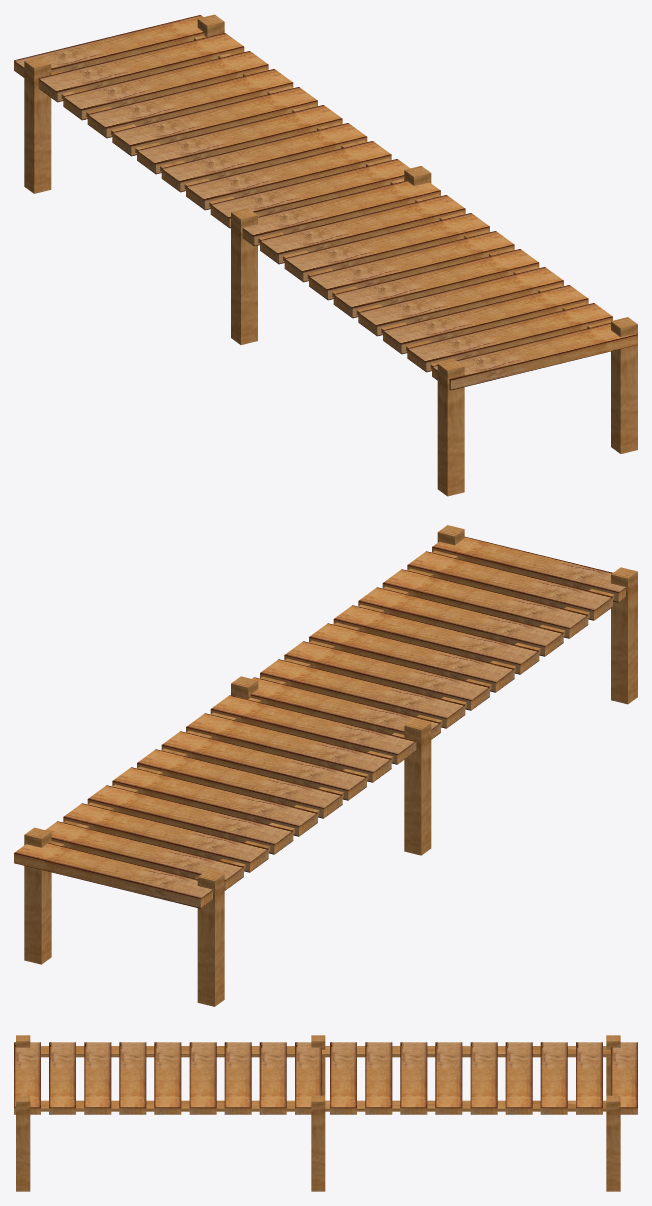
Rendered from WoodDock.glb.
The picture shows the model from 3 angles, top to bottom: view 1: azimuth 30°, elevation 25°; view 2: azimuth 150°, elevation 25°; view 3: azimuth 270°, elevation 25°; orthographic projection. The views are drawn at different scales.
Parts seen in each view (by area): view 1: Cube, Cube.001, Cube.002, Cube.004, Cube.003; view 2: Cube, Cube.001, Cube.002, Cube.003, Cube.004; view 3: Cube, Cube.002, Cube.003, Cube.004, Cube.001.
Boxes of the visible parts, box(x1,y1,x2,y2) form: Cube: box(14, 15, 637, 390); Cube.001: box(24, 56, 464, 496); Cube.002: box(197, 14, 637, 453); Cube.004: box(194, 35, 610, 328); Cube.003: box(51, 70, 454, 369); Cube: box(14, 536, 625, 908); Cube.001: box(197, 567, 637, 1006); Cube.002: box(24, 525, 464, 964); Cube.003: box(195, 589, 614, 879); Cube.004: box(51, 550, 457, 846); Cube: box(14, 1042, 637, 1114); Cube.002: box(16, 1095, 620, 1191); Cube.003: box(41, 1046, 610, 1057); Cube.004: box(41, 1100, 606, 1111); Cube.001: box(16, 1035, 620, 1095).
Size of the model in its own units: 5.63 by 3.55 by 22.39.
Materials: 1 (1 with a texture image).
